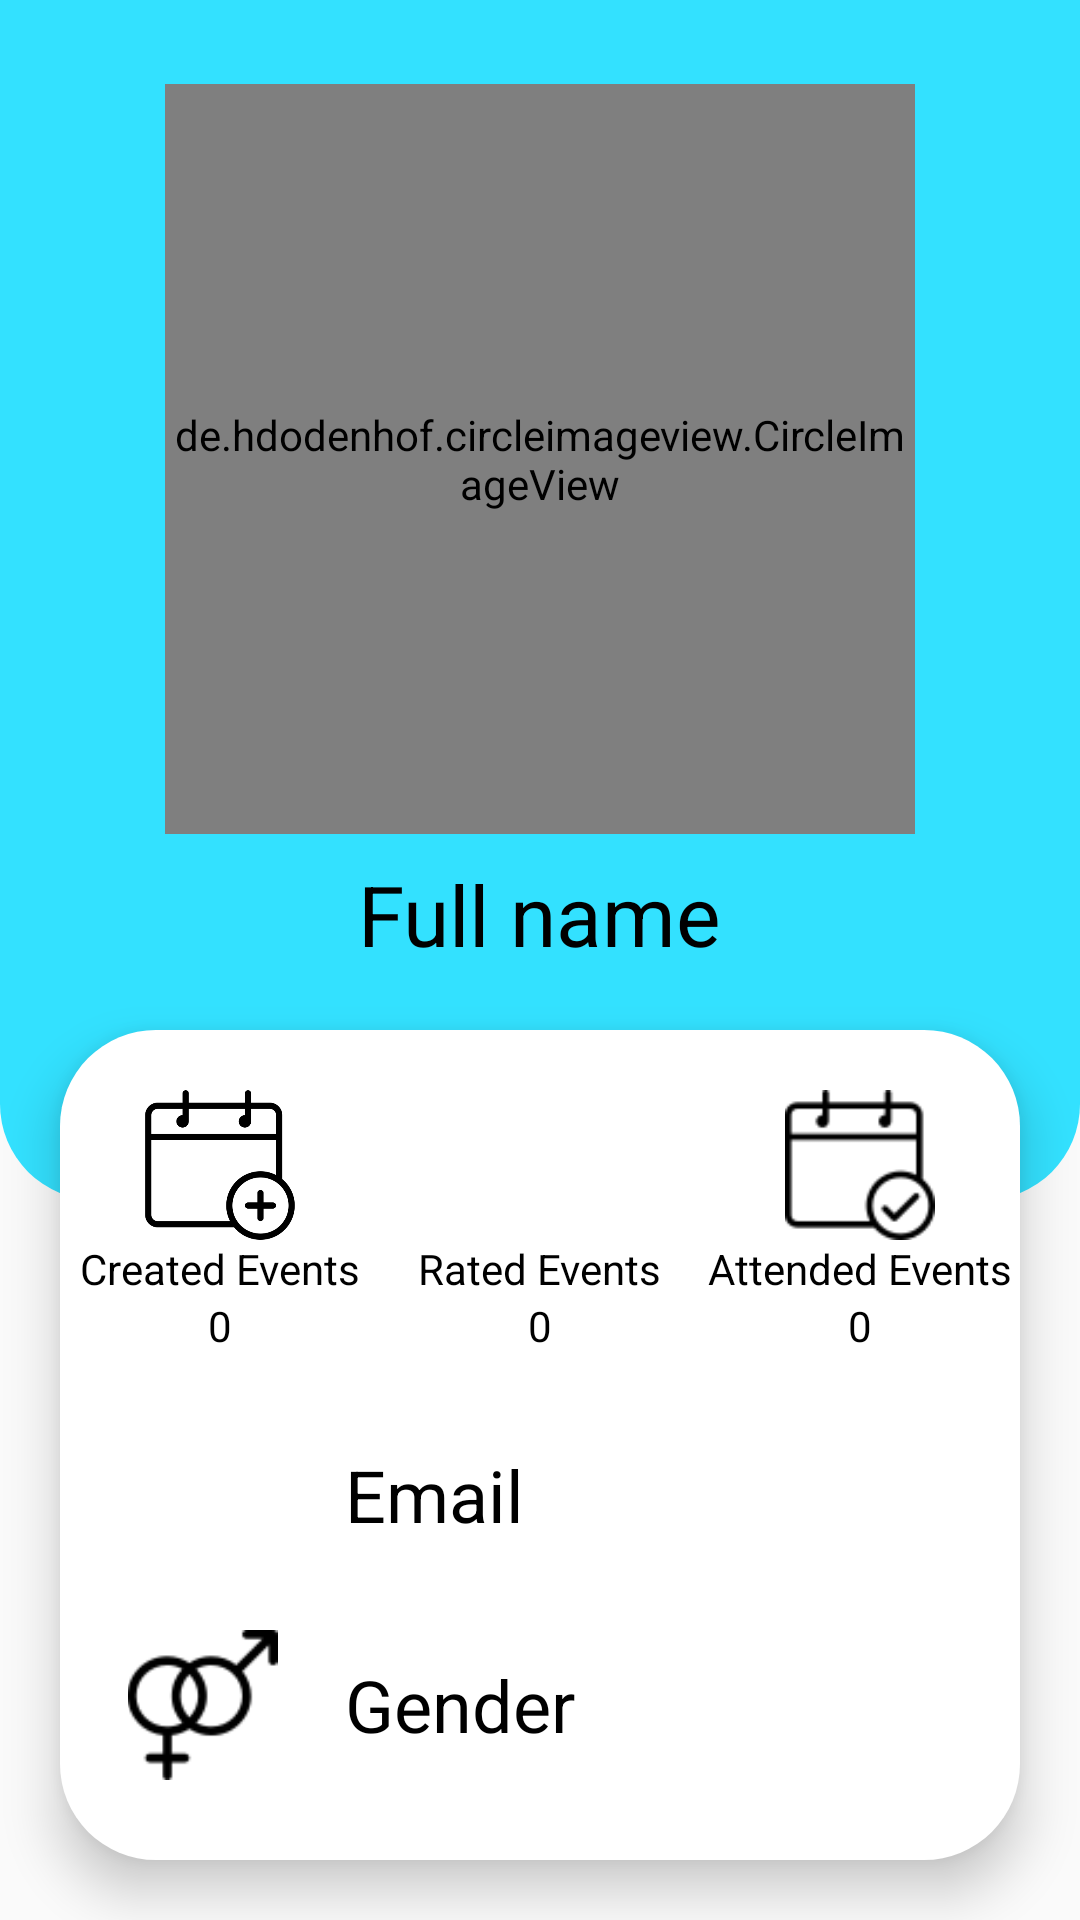

Icons on this 1080px x 1920px Android screen, each with its box as (x1, y1, x2, y2):
event checked: (785, 1090, 935, 1240)
